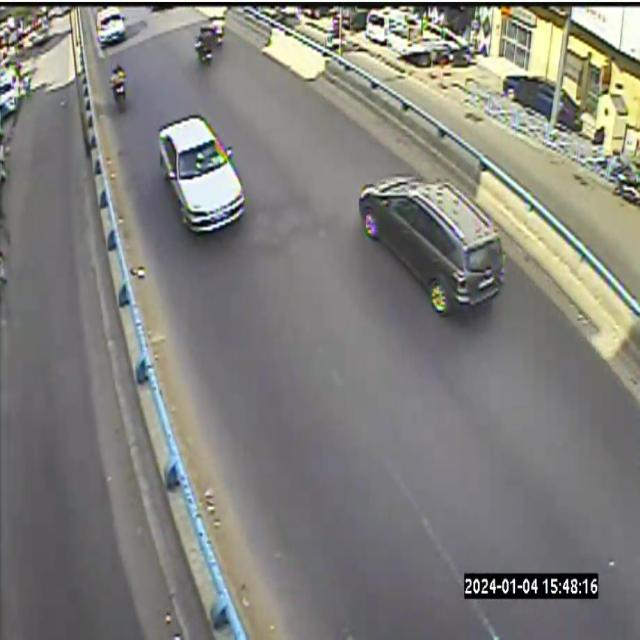car: (354, 172, 509, 333), (359, 155, 508, 316), (89, 3, 138, 59)
